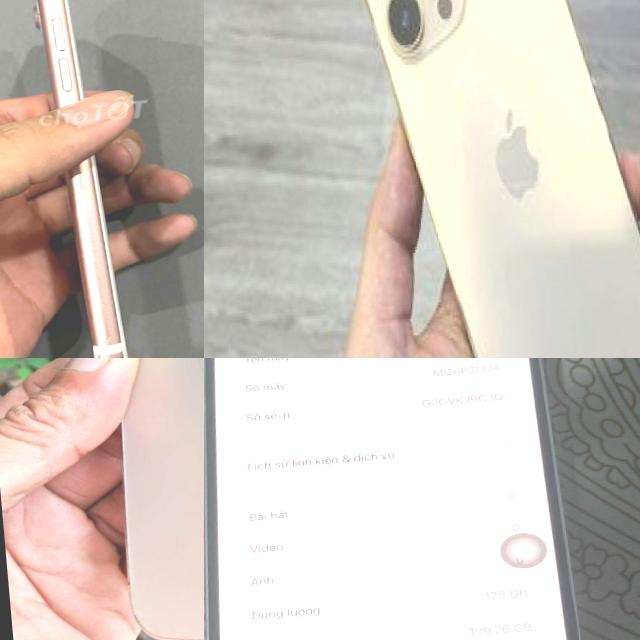gen_12_13: (341, 0, 640, 358), (78, 358, 204, 640)
gen_14: (204, 358, 609, 640)
gen_7_8: (18, 0, 147, 358)
